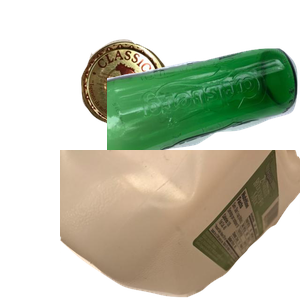glass: (107, 46, 300, 197)
metal: (78, 37, 243, 163)
plastic: (60, 150, 300, 300)
trash: (95, 157, 282, 300)
